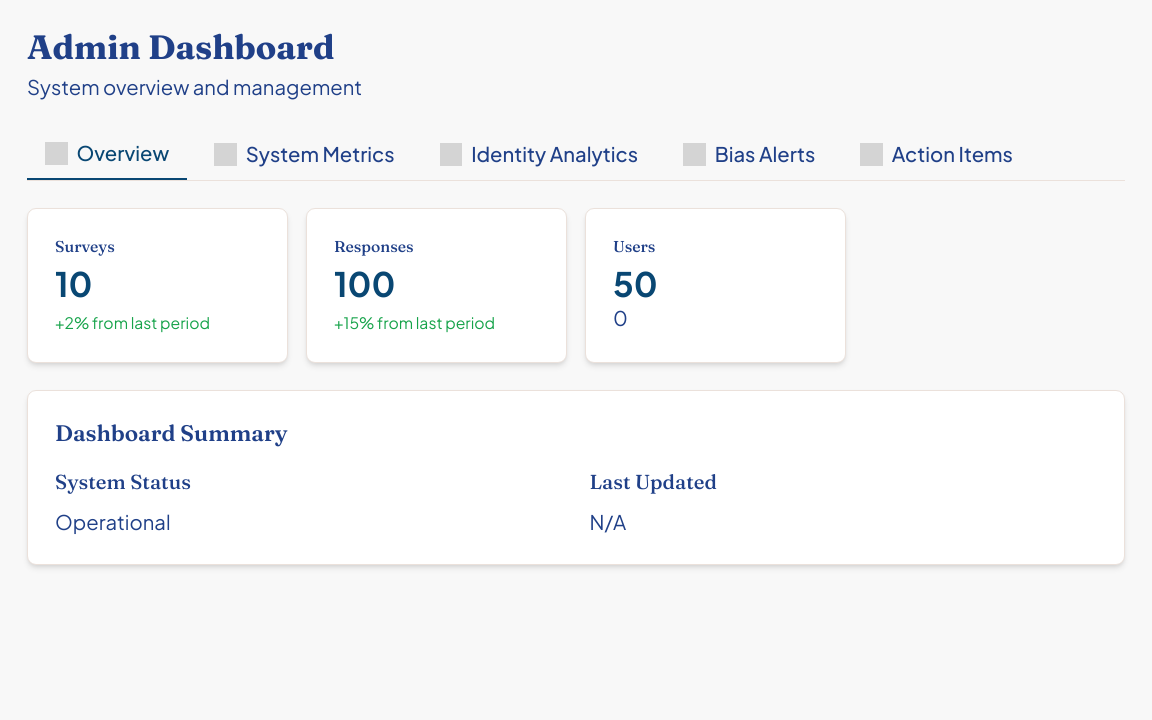
Test: AdminDashboard › Tab Navigation › should switch to Identity Analytics tab
What coordinates should you click on to do the following:
click the button "Identity Analytics"
I would click on:
 (539, 155)
Its box is [422,129,656,180].
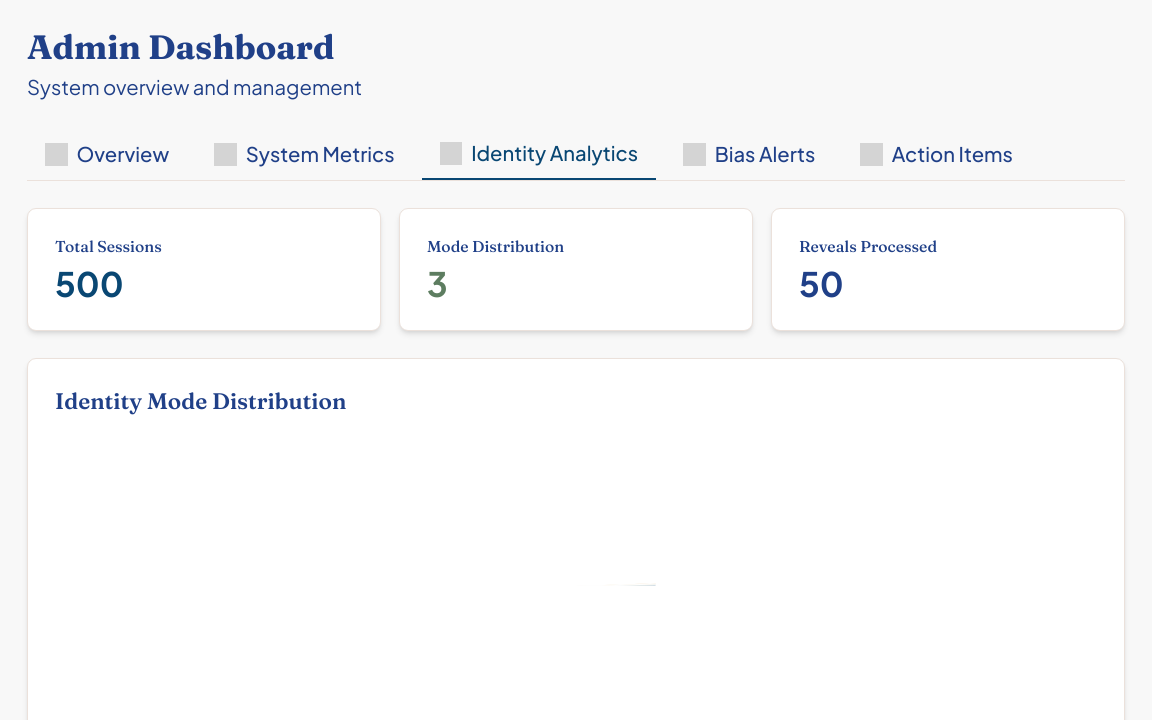
Expected: the heading "Total Sessions" is shown, [55,237,162,256]
Expected: the text "500" is shown, [55,262,124,304]
